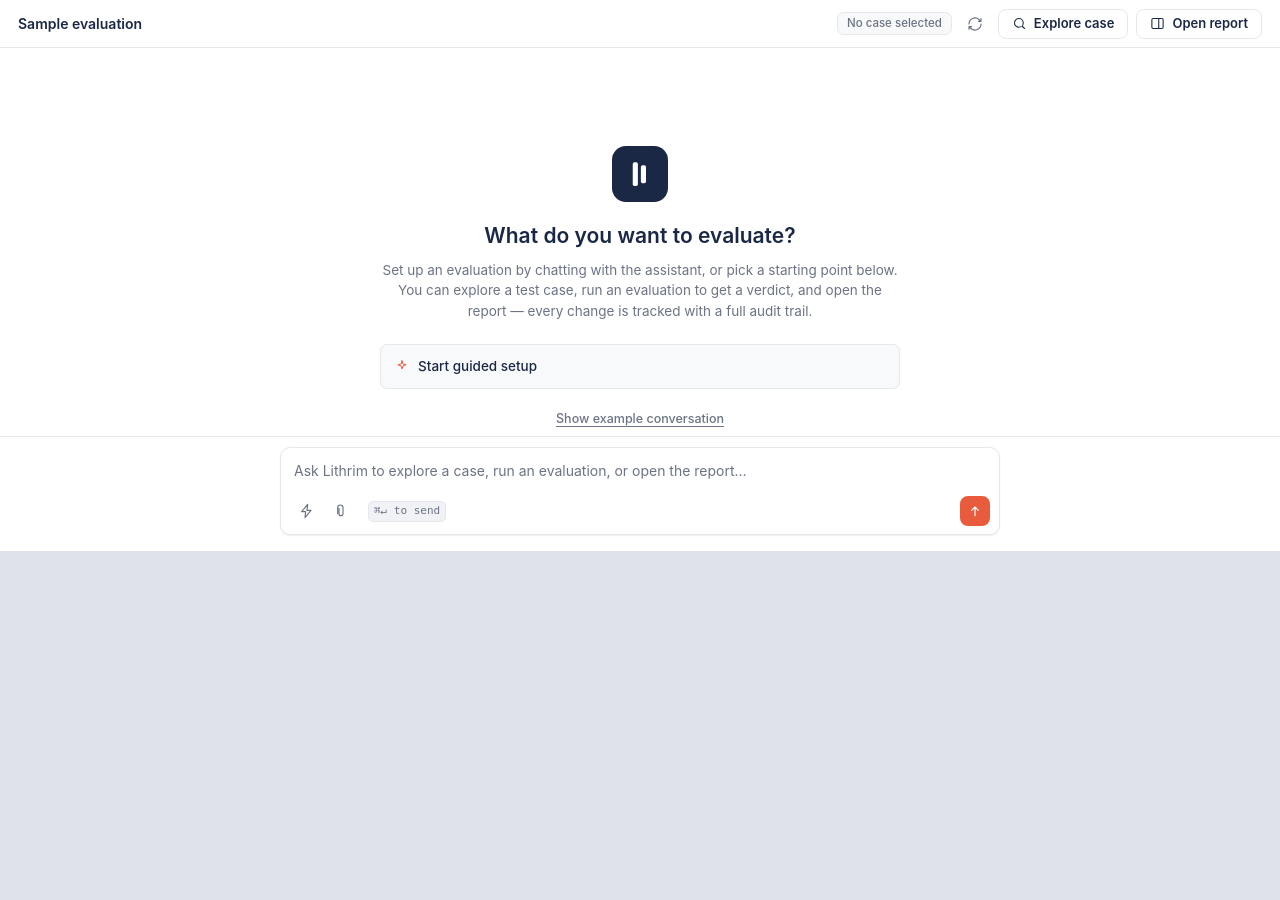
Test case: CenterPane — CHATBIND-4: the consented live-run hand-off › FLOOR-VIS close-out: a tool-propose_run_all directive renders a trace, never the Unsupported fallback
Replace the text in the text box with placeholder "Ask Lithrim" with "grade all cases": (640,467) [281,448,999,485]
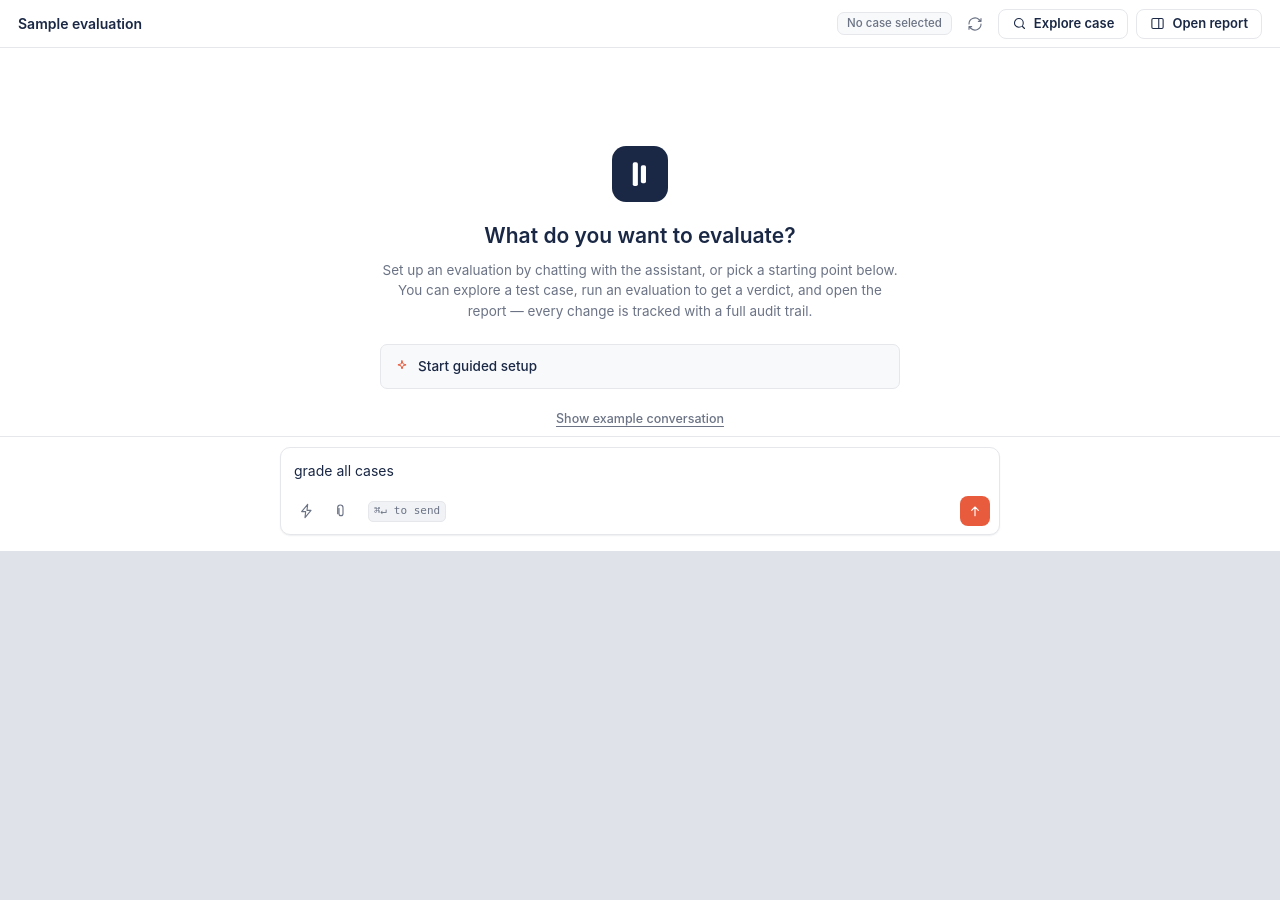
Click the button with test id "chat-send": (975,511) [960,496,990,526]
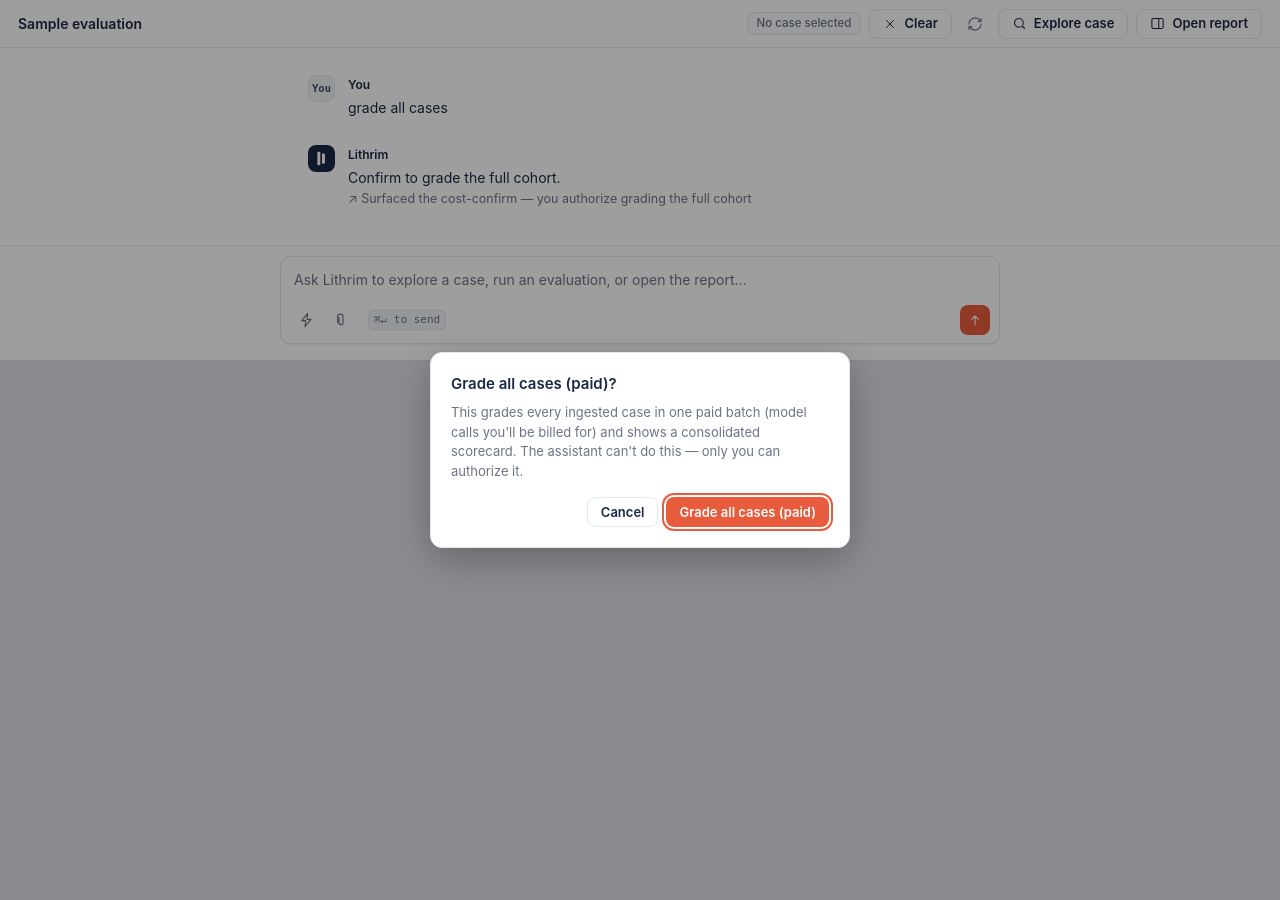
Result: the text with test id "paid-directive" shows "cost-confirm" at [348,191,752,206]
